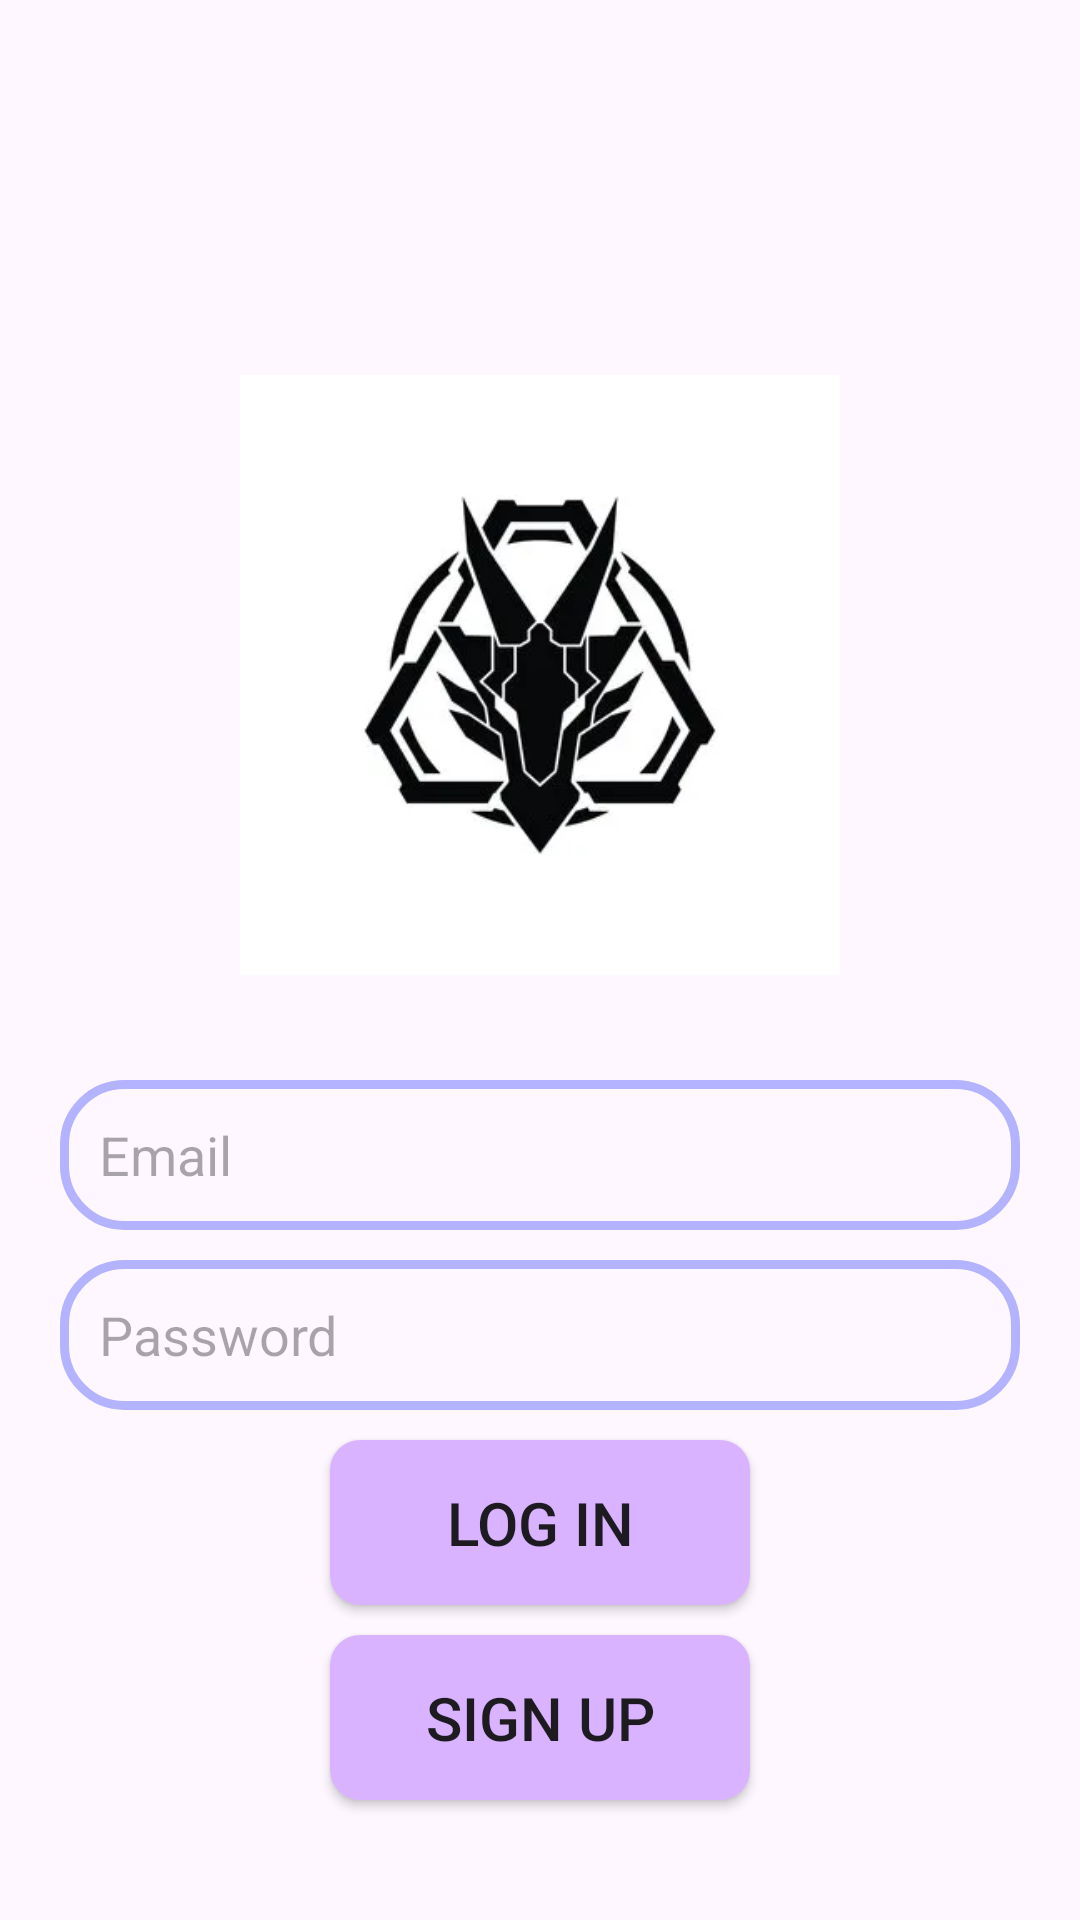

Icons on this 1080 × 1920 Android screen, each with its box as (x1, y1, x2, y2):
dragon: (364, 497, 716, 854)
